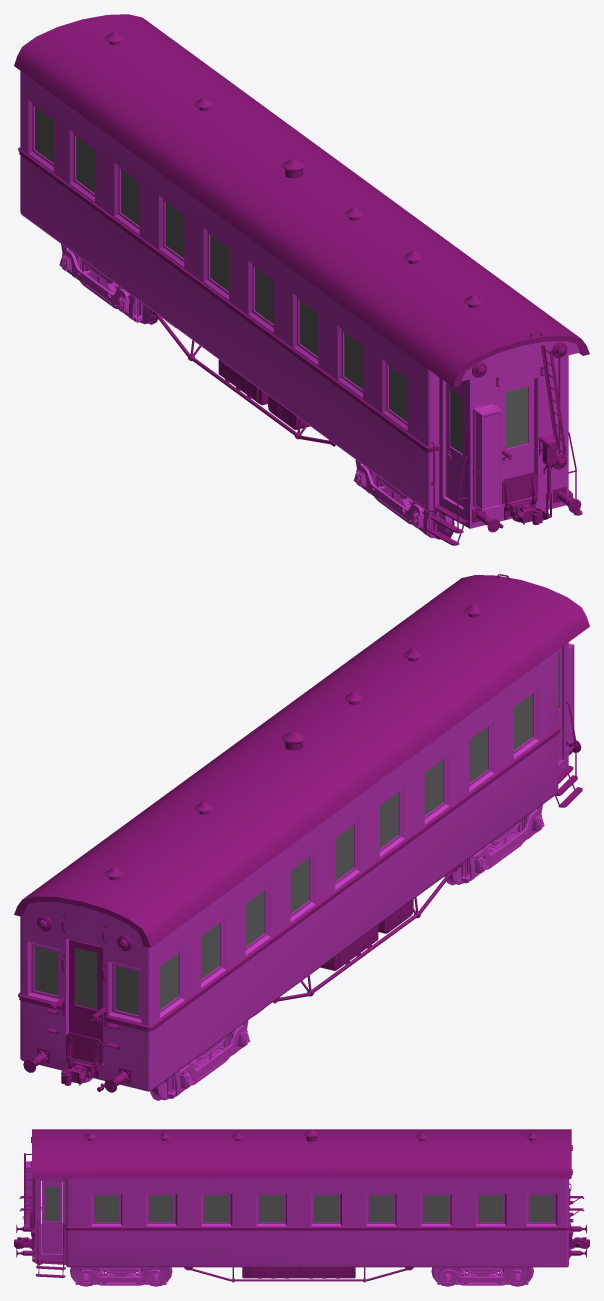
The model's file is CoachVagon.FBX.
3 renders of one model, top to bottom at view 1: azimuth 30°, elevation 25°; view 2: azimuth 150°, elevation 25°; view 3: azimuth 270°, elevation 25°, orthographic. The views are drawn at different scales.
Visible parts, largest first — view 1: polySurface26; view 2: polySurface26; view 3: polySurface26.
Boxes of the visible parts, x1=… form: polySurface26: x1=14, y1=14, x2=589, y2=545; polySurface26: x1=14, y1=574, x2=589, y2=1098; polySurface26: x1=14, y1=1129, x2=589, y2=1285.
Bounding box in the file's own units: 1319 × 2125 × 7682.
